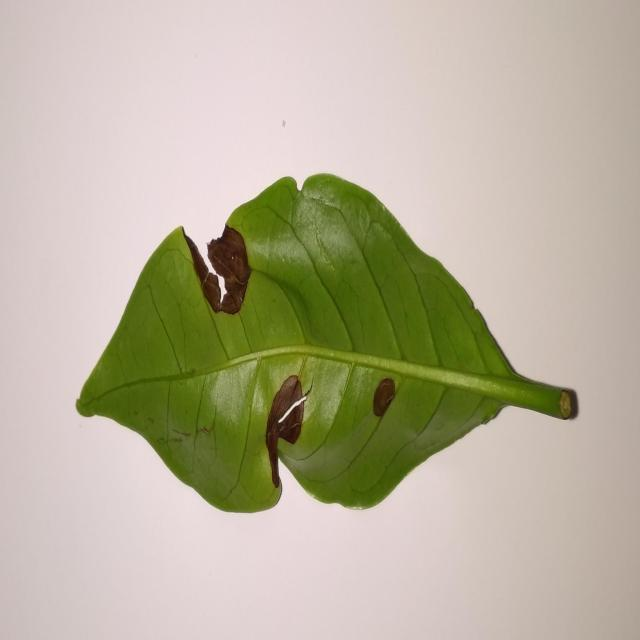Enfermedad-Antracnosis: (75, 173, 580, 517)
